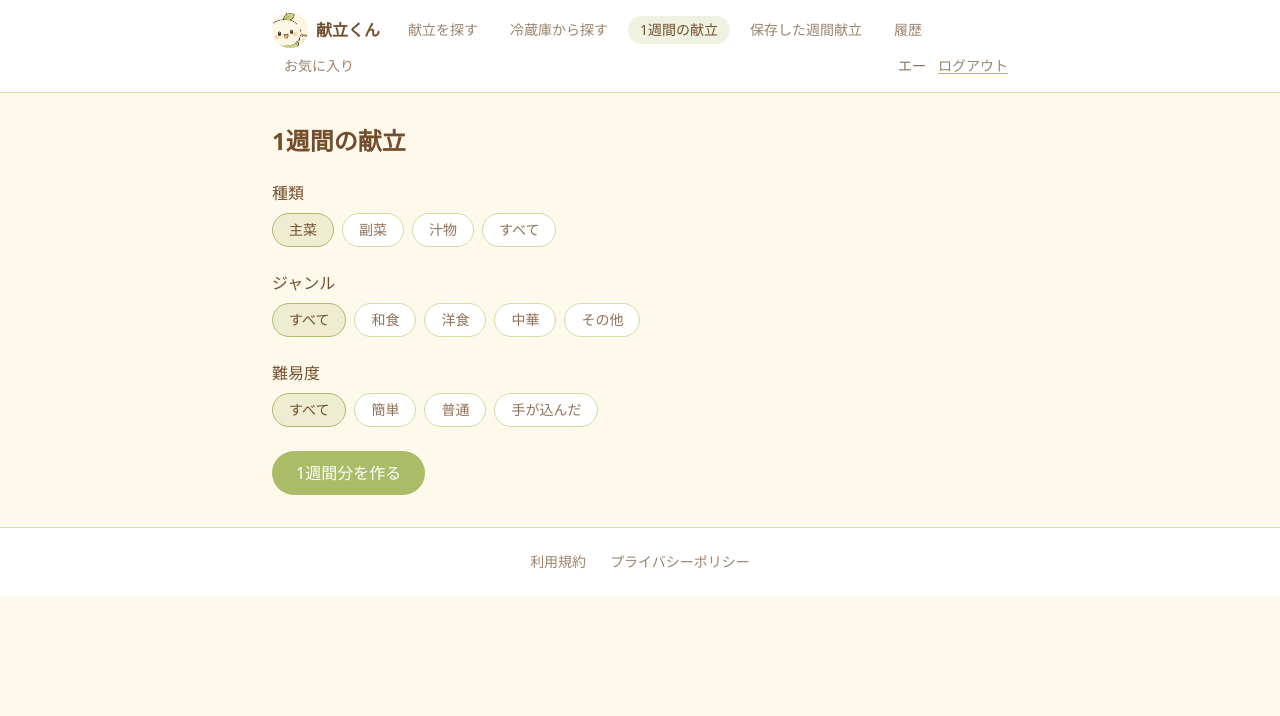
Test: 週間献立の持ち越し（Issue #83） › ログアウトすると週間献立が残らない
Click the button "1週間分を作る" at coordinates (349, 473), box [272,451,425,495]
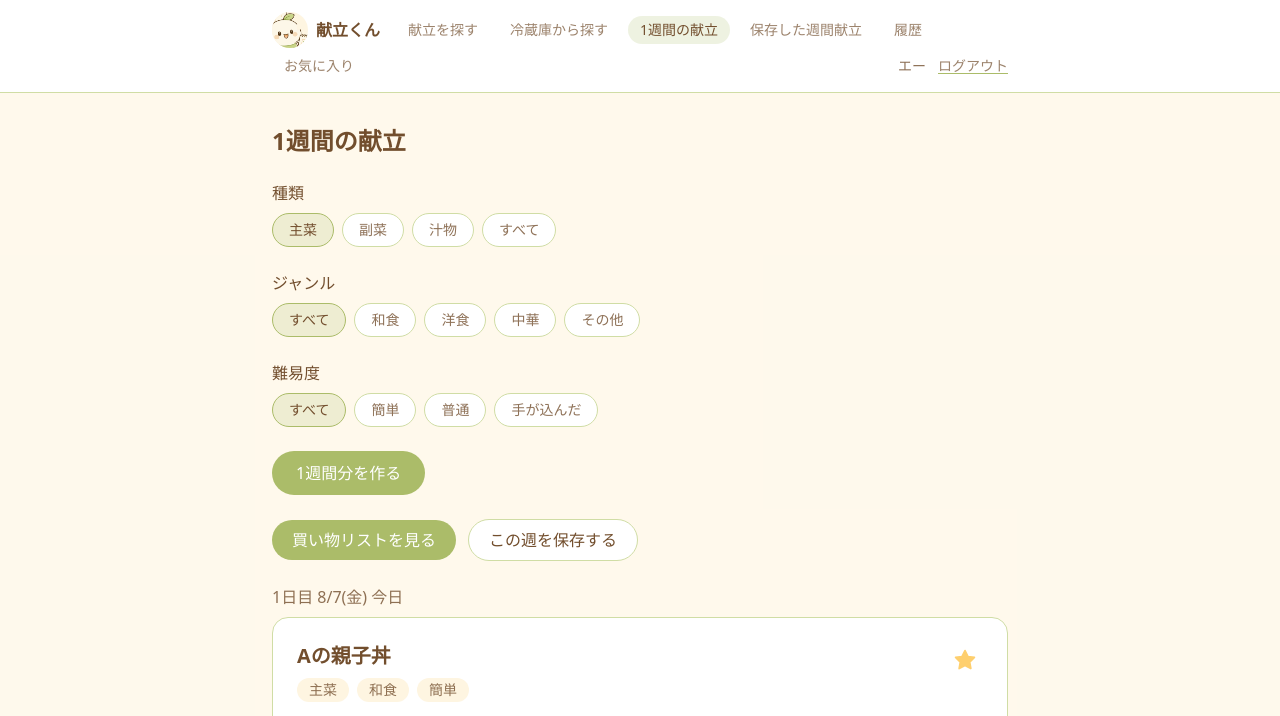
Expected: the heading "Aの親子丼" is shown, [297,642,391,669]
Click the button "ログアウト" at coordinates (973, 66), box [938,56,1008,76]
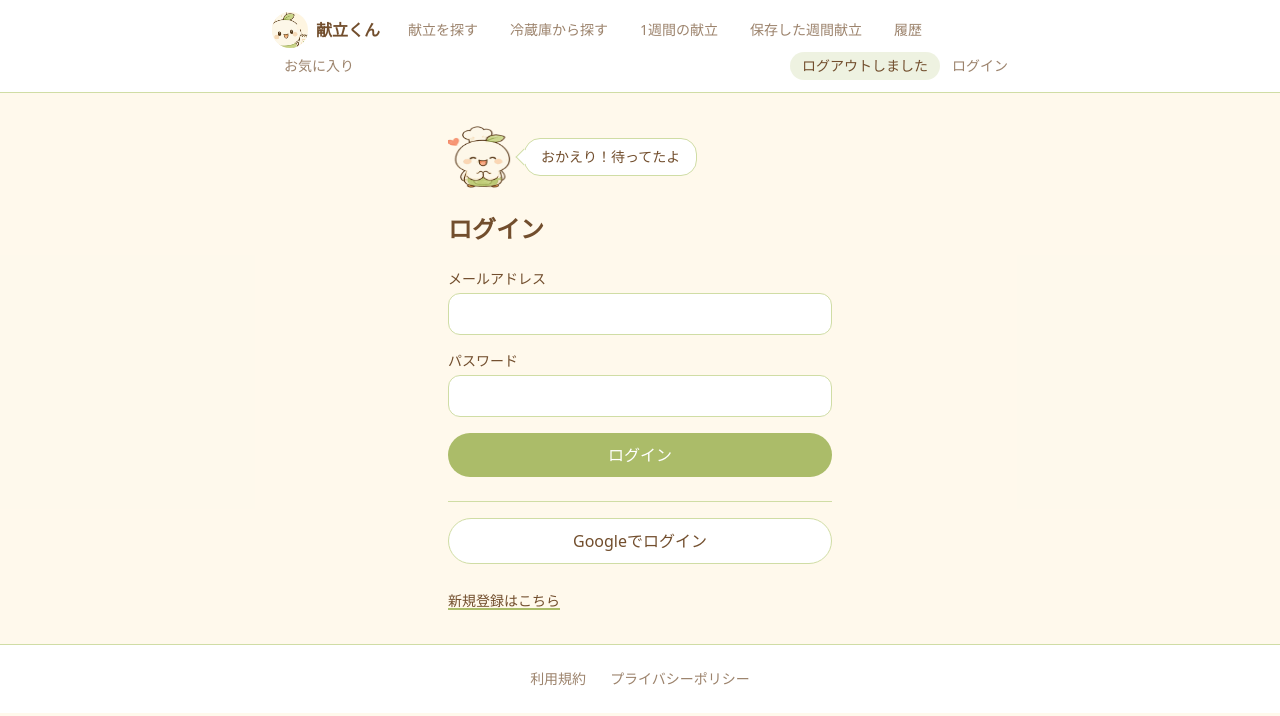
Expected: the link "ログイン" is shown, [952,56,1008,76]
Expected: the heading "Aの親子丼" is gone
